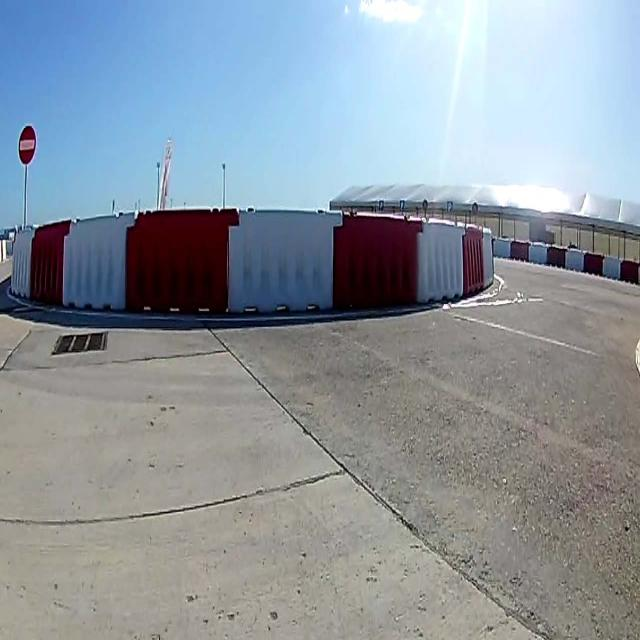girisyok: (18, 124, 37, 165)
